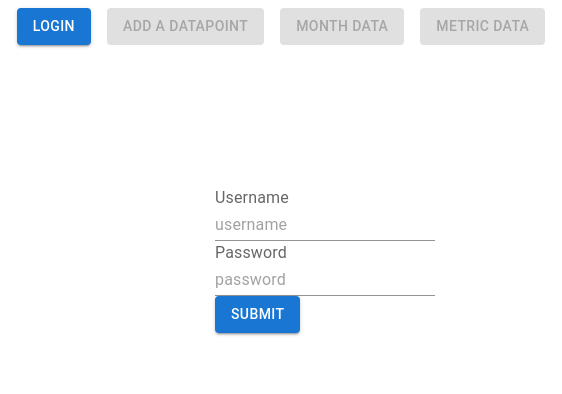
Test: Login › Login fails missing credintials
Click the button with id "submit": point(258, 315) [215,296,300,333]
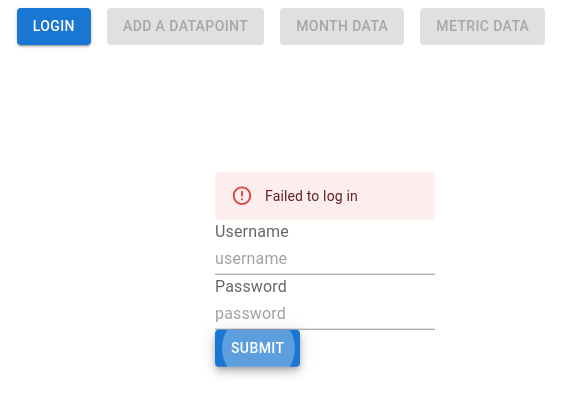
Now the text "Failed to log in" is shown, box [265,188,358,204]
